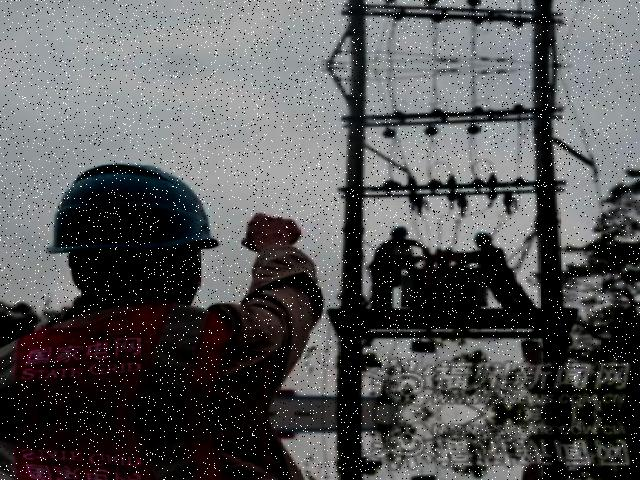Helmet: (36, 156, 227, 272)
